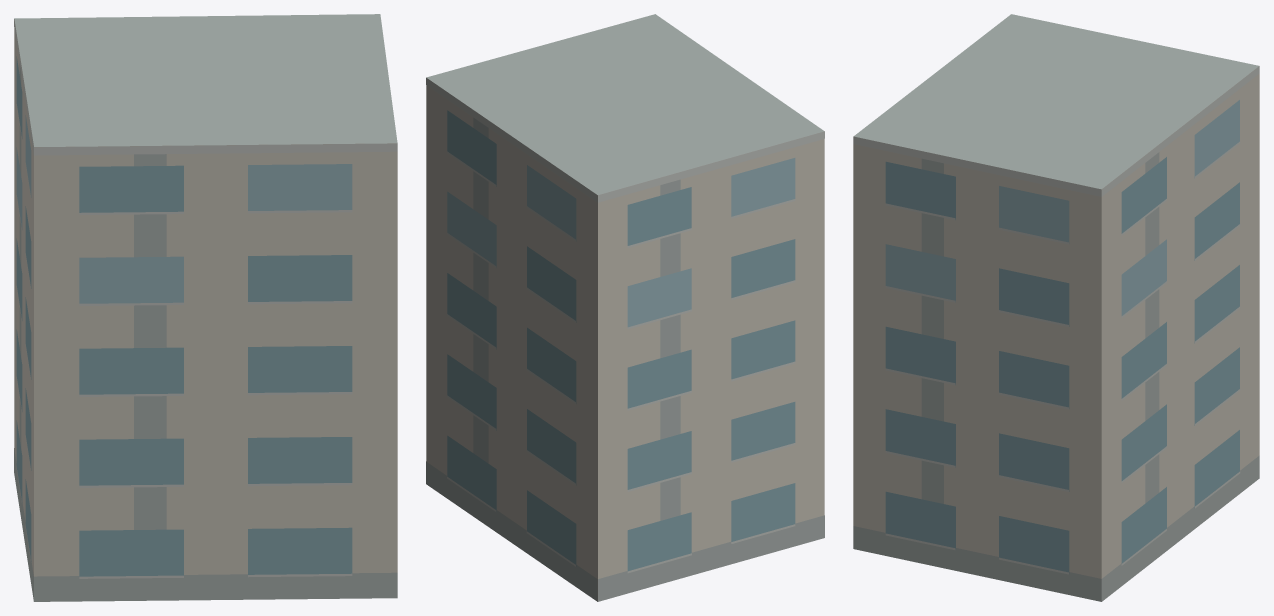
Rendered from survey-upis-32953618.glb.
3 views of the same model, side by side, from view 1: azimuth 30°, elevation 25°; view 2: azimuth 150°, elevation 25°; view 3: azimuth 270°, elevation 25° (orthographic). The views are drawn at different scales.
Parts seen in each view (by area): view 1: survey-upis-32953618.tmp; view 2: survey-upis-32953618.tmp; view 3: survey-upis-32953618.tmp.
Boxes of the visible parts, box(x1,y1,x2,y2) form: survey-upis-32953618.tmp: box(14, 14, 397, 601); survey-upis-32953618.tmp: box(426, 14, 824, 601); survey-upis-32953618.tmp: box(853, 14, 1259, 601).
Bounding box in the file's own units: 12.04 × 13.2 × 11.79.
